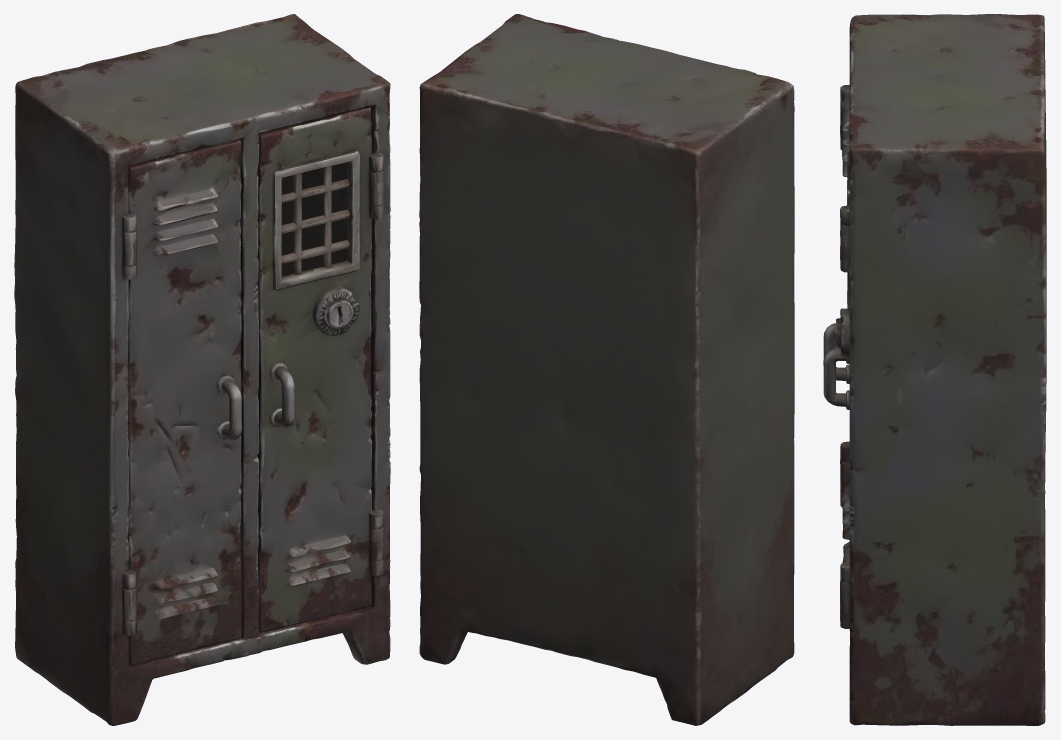
The model's file is prison_armory_locker.glb.
3 views of the same model, side by side, from view 1: azimuth 30°, elevation 25°; view 2: azimuth 150°, elevation 25°; view 3: azimuth 270°, elevation 25° (orthographic).
Visible parts, largest first — view 1: body, door_l, door_r; view 2: body; view 3: body, door_l, door_r.
Part boxes in pixels (x1,y1,x2,y2): body: [14, 14, 390, 725]; door_l: [127, 137, 251, 664]; door_r: [251, 106, 379, 634]; body: [419, 14, 794, 725]; body: [840, 14, 1046, 725]; door_l: [823, 87, 849, 539]; door_r: [823, 151, 849, 620].
Bounding box in the file's own units: 0.9771 × 1.9 × 0.6673.
Materials: 3 (3 with a texture image).
